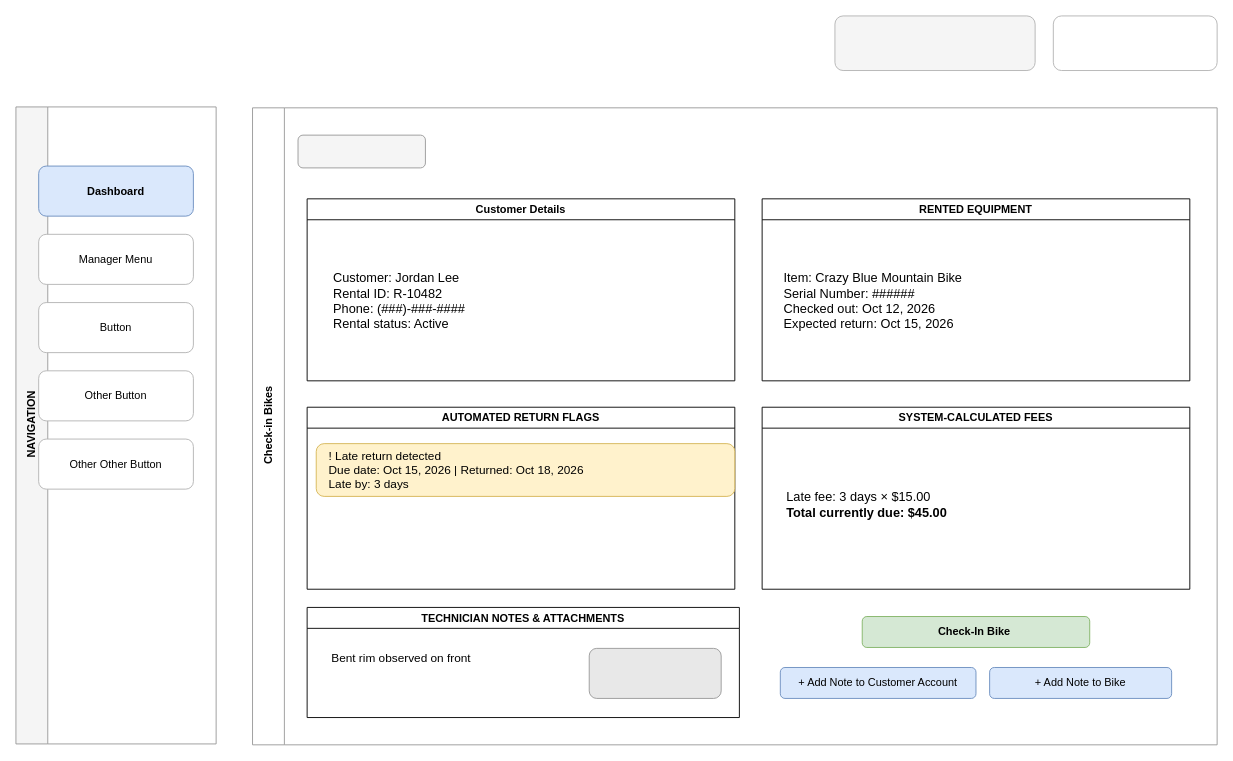
Image size: 1233x761. Some labels were removed from this diagram. The centre of each missing label's shape, as x and y in pixels:
"10:42 AM Tuesday, March 12" belongs at (1134,43).
"< Back to Rentals" belongs at (361,151).
"[ Photo: bent-rim.jpg ]" belongs at (654,672).
"Staff: Name" belongs at (934,43).
